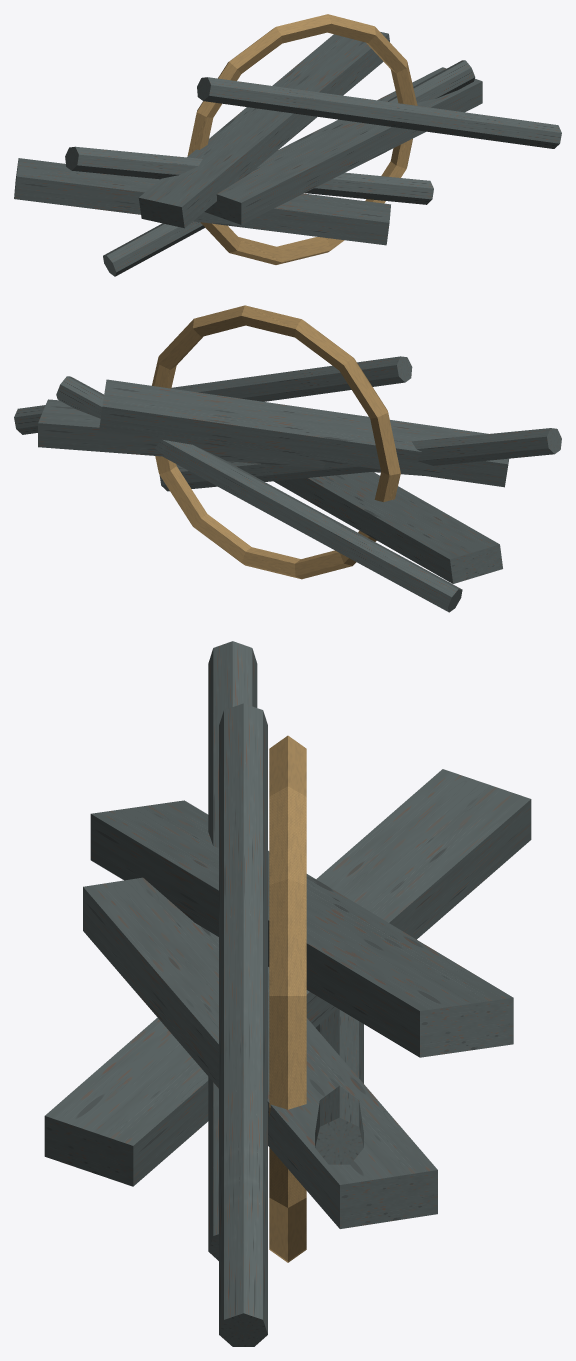
File: pr-012_scrap_metal_bundle__small.obj
3 renders of one model, top to bottom at view 1: azimuth 30°, elevation 25°; view 2: azimuth 150°, elevation 25°; view 3: azimuth 270°, elevation 25°, orthographic. The views are drawn at different scales.
Parts seen in each view (by area): view 1: pr-012_scrap_metal_bundle__small; view 2: pr-012_scrap_metal_bundle__small; view 3: pr-012_scrap_metal_bundle__small.
Boxes of the visible parts, x1,y1,x2,y2 form: pr-012_scrap_metal_bundle__small: [14, 14, 561, 276]; pr-012_scrap_metal_bundle__small: [14, 305, 561, 612]; pr-012_scrap_metal_bundle__small: [44, 641, 531, 1346].
Size of the model in its own units: 0.8213 by 0.3783 by 0.3498.
Materials: 2 (2 with a texture image).
